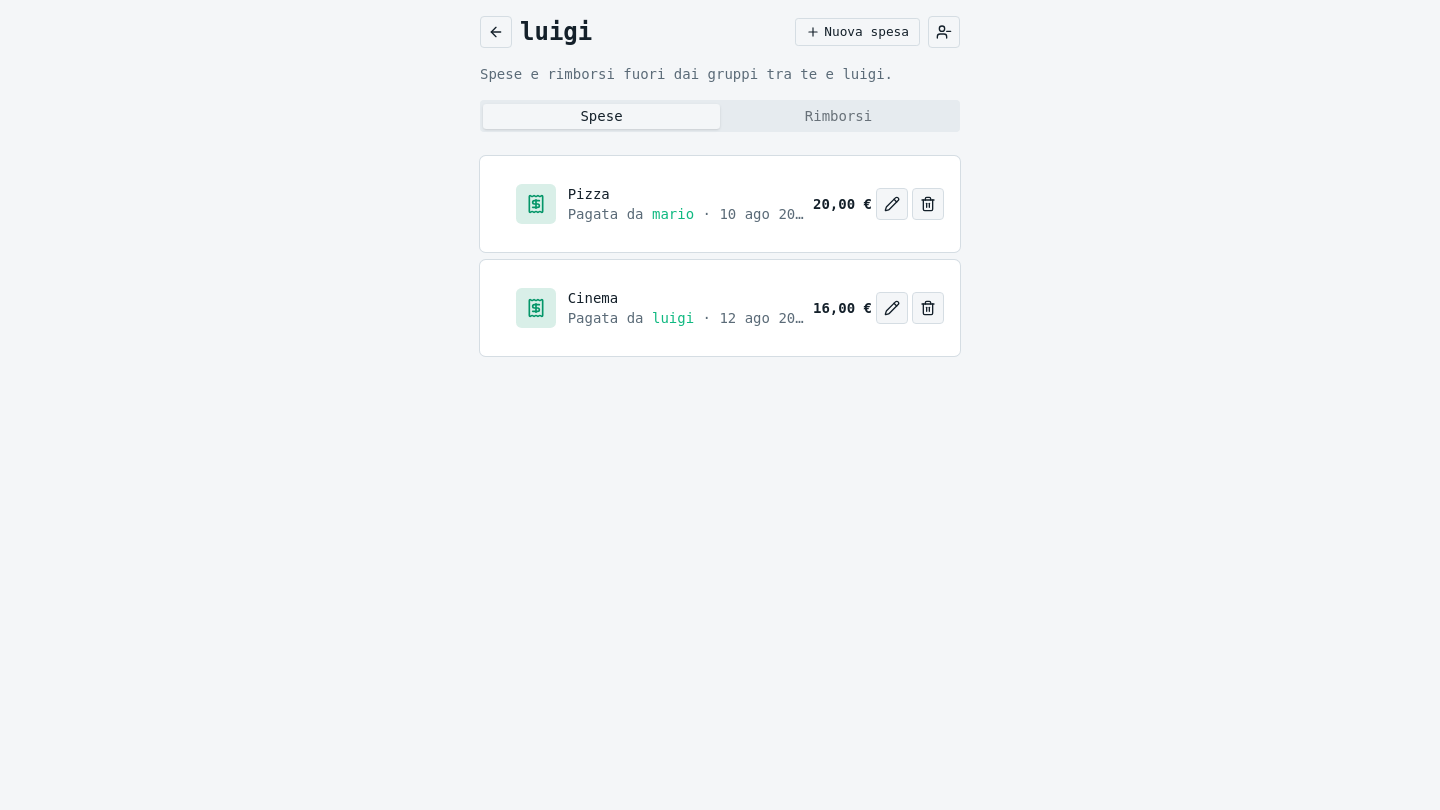
Test: FriendDetailPage › cliccando una spesa si apre il dettaglio in sola lettura
What coordinates should you click on to do the following:
click the text "Pizza"
I would click on:
 (589, 194)
Its box is [568,186,610,202].
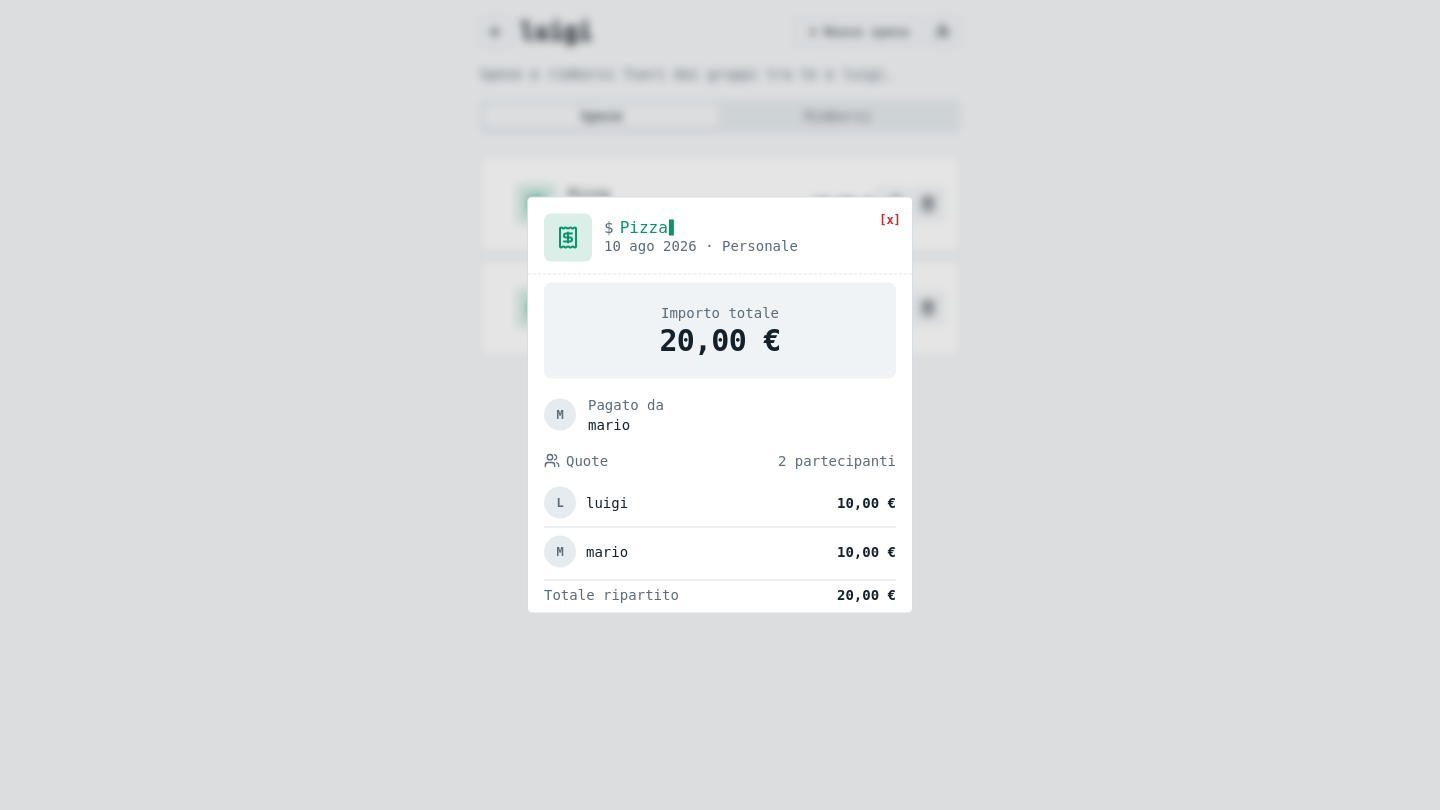
Expected: the text "Pagato da" is shown, [588,394,664,414]
Expected: the text "Quote" is shown, [566,452,608,468]
Expected: the text "10,00 €" is shown 2 times, [837,492,896,512]; [837,542,896,562]
